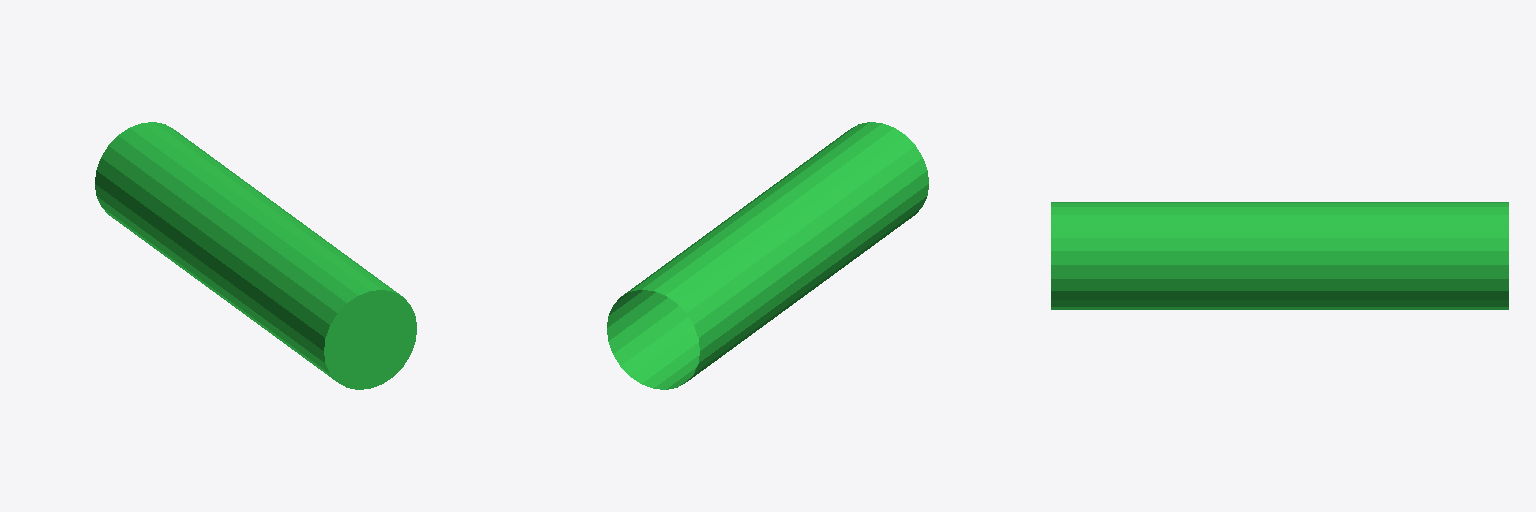
Rendered from original-19.obj.
The picture shows the model from 3 angles: view 1: azimuth 30°, elevation 25°; view 2: azimuth 150°, elevation 25°; view 3: azimuth 270°, elevation 25°; orthographic projection.
Visible parts, largest first — view 1: #ID336; view 2: #ID336; view 3: #ID336.
Boxes of the visible parts, box(x1,y1,x2,y2) form: #ID336: box(95, 122, 416, 389); #ID336: box(607, 122, 928, 389); #ID336: box(1051, 202, 1508, 309).
Size of the model in its own units: 0.0769 by 0.0769 by 0.3267.